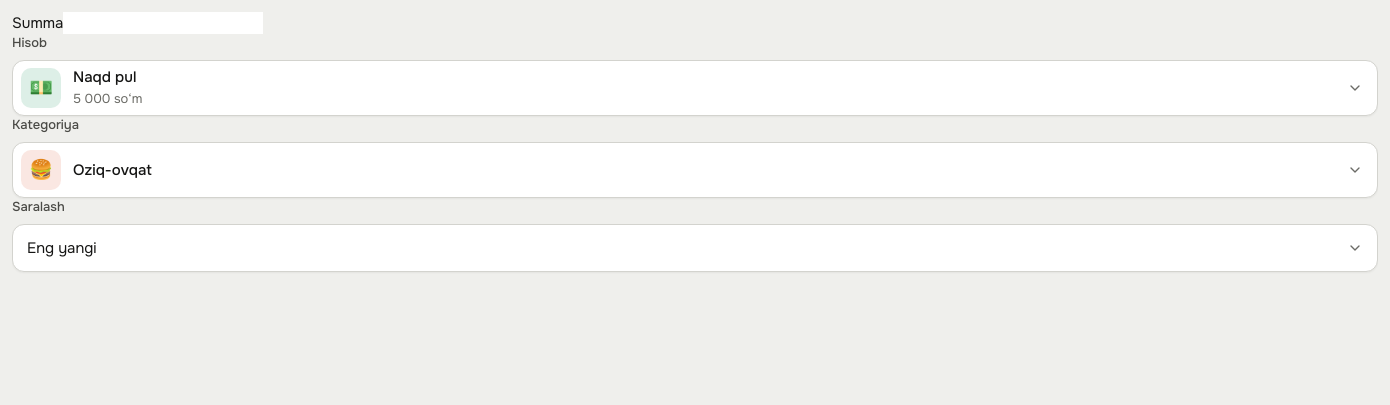
pickers and the on-screen keyboard › scrolls the field and its opened list into view
The image size is (1390, 405).
Click the button named "Hisob". click: (41, 88)
box: 12,60 -> 1378,116
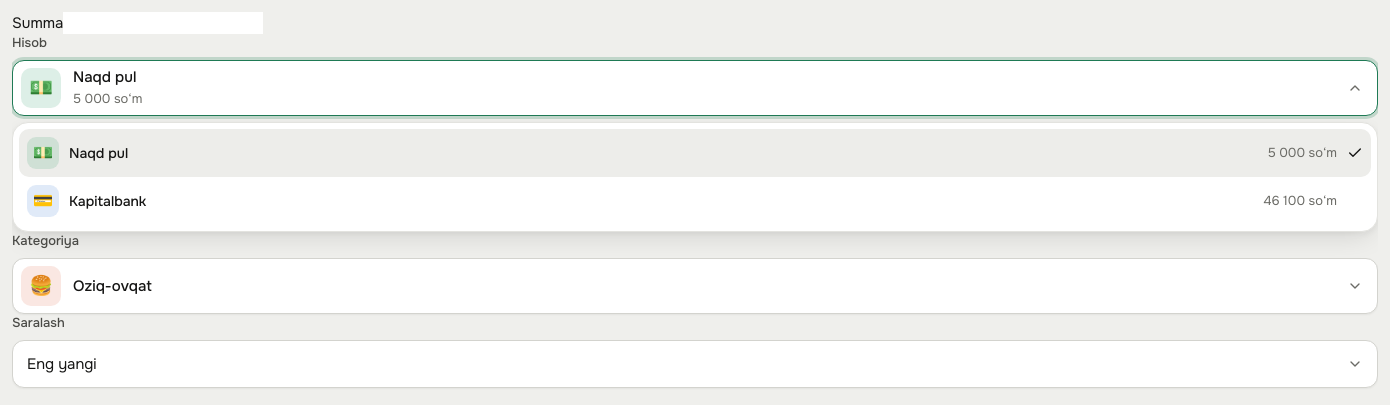
Check: the list is shown, box 12,122 -> 1378,232
